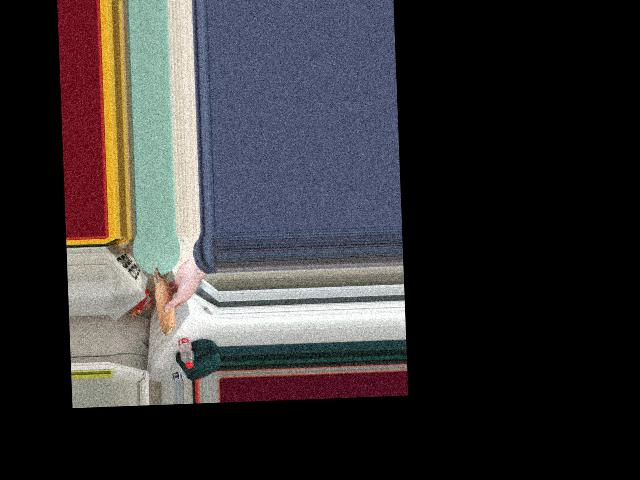sweet_potato: (151, 262, 172, 338)
